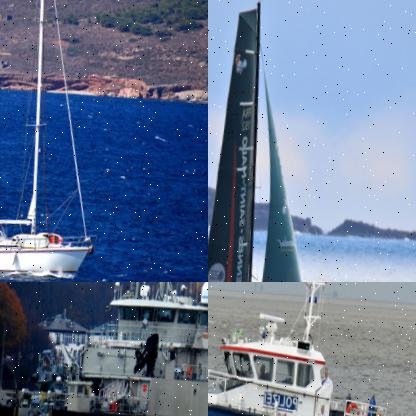Patrol Boat: (0, 282, 207, 415), (208, 282, 415, 415)
Sails Boat: (208, 0, 369, 281), (0, 0, 120, 281)
